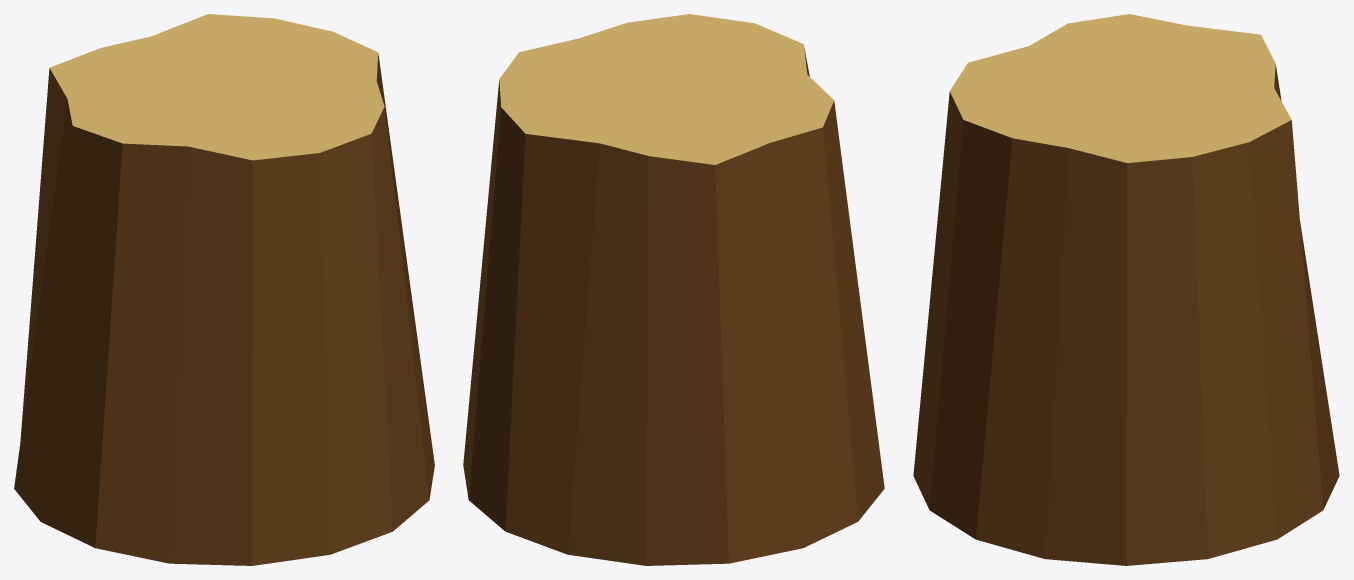
The model's file is Pieniek2.fbx.
3 renders of one model, left to right at view 1: azimuth 30°, elevation 25°; view 2: azimuth 150°, elevation 25°; view 3: azimuth 270°, elevation 25°, orthographic.
Visible parts, largest first — view 1: red02.002; view 2: red02.002; view 3: red02.002.
Boxes of the visible parts, bbox=[...] form: red02.002: bbox=[14, 14, 434, 565]; red02.002: bbox=[463, 14, 884, 565]; red02.002: bbox=[913, 14, 1339, 565].
Size of the model in its own units: 28.09 by 28.24 by 28.09.
